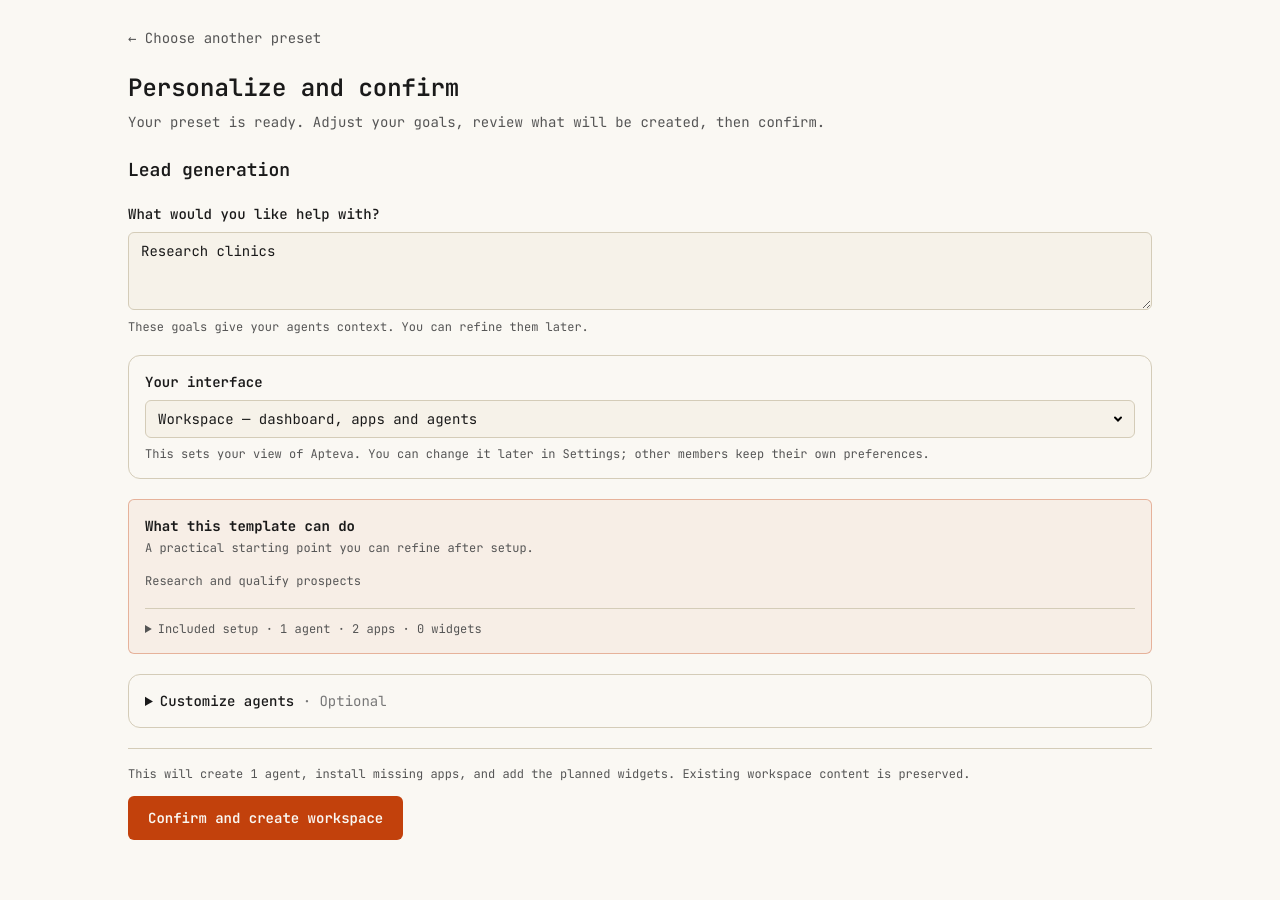
Test: saving failure blocks creation and allows retry
The width and height of the screenshot is (1280, 900).
Click the button "Confirm and create workspace" at point(266, 818), box top-left (128, 796), bottom-right (403, 840)
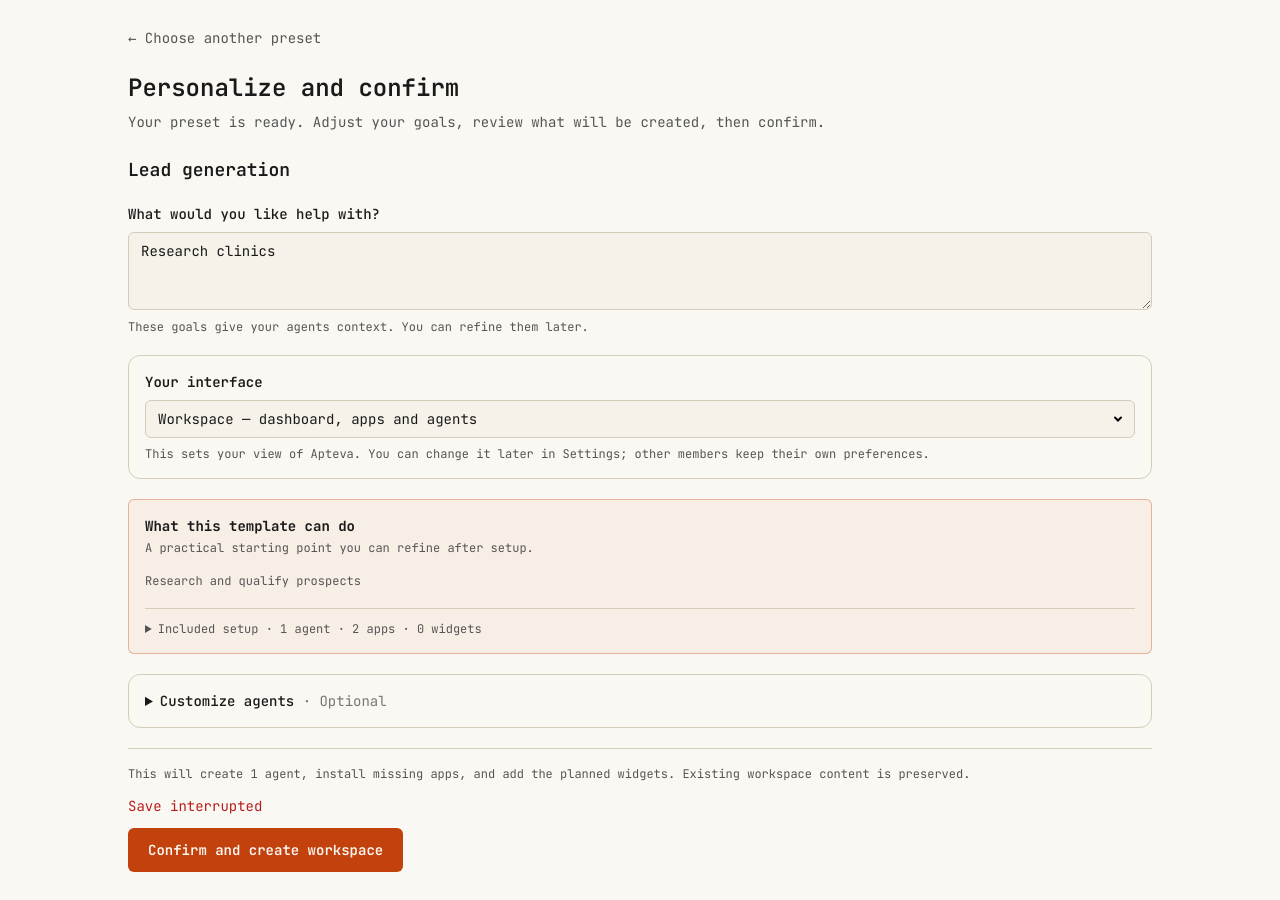
expect the text "Save interrupted" is shown: met, box top-left (128, 797), bottom-right (262, 815)
Click the button "Confirm and create workspace" at point(266, 850), box top-left (128, 828), bottom-right (403, 872)
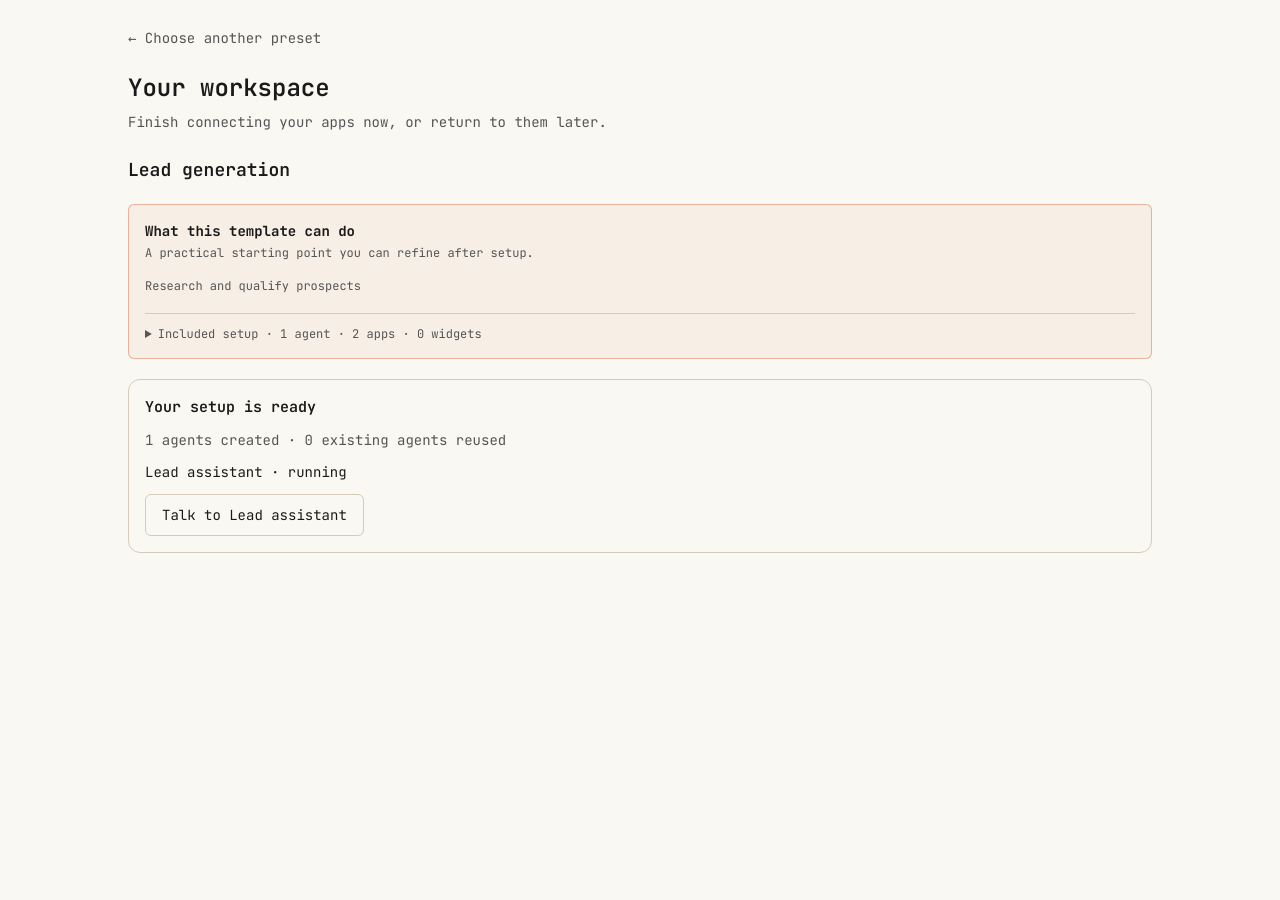
expect the heading "Your setup is ready" is shown: met, box top-left (145, 396), bottom-right (316, 416)
